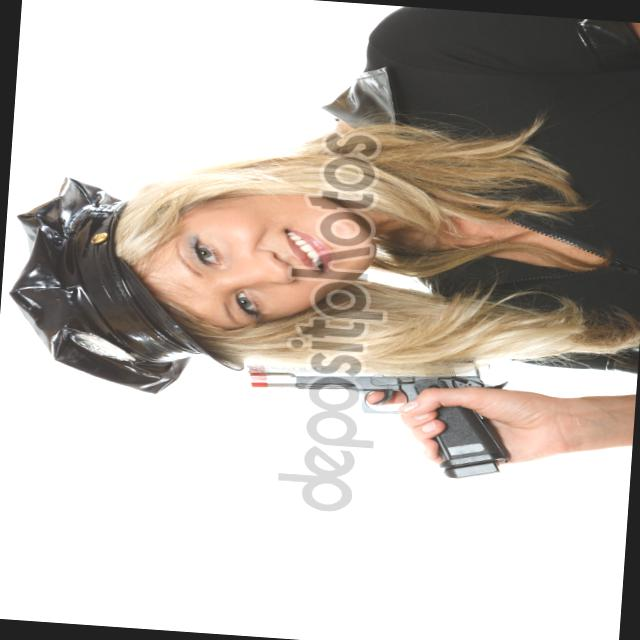handgun: (220, 330, 524, 476)
